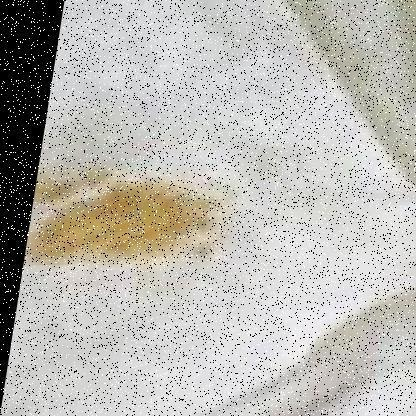coffee: (24, 173, 208, 276)
